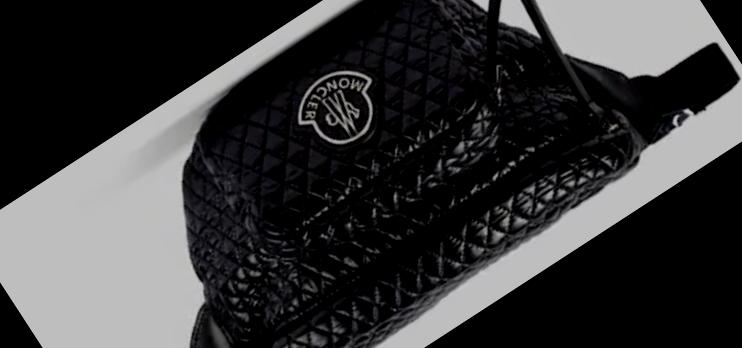MONCLER: (272, 46, 405, 173)
